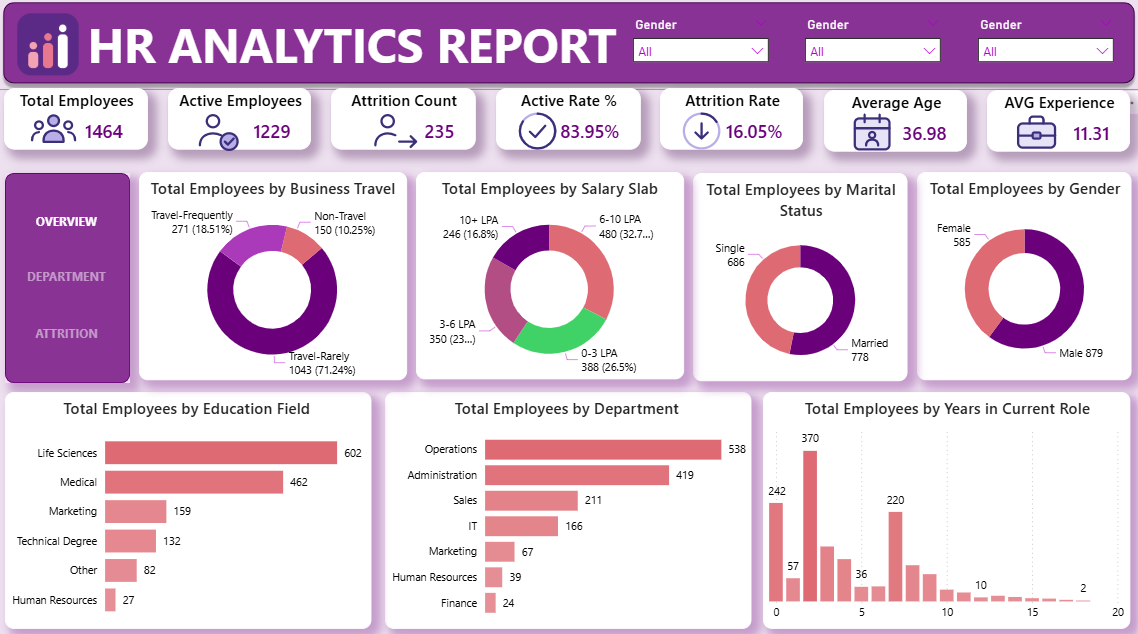

The dashboard page shown, as its layout file describes it:
{"tool":"powerbi","page":{"name":"Overview","canvas":[1280,720],"ordinal":0},"visuals":[{"type":"shape","box":[0,0,1280,104.8],"z":0},{"type":"cardVisual","title":"Total Employees","fields":{"Data":["Measures (2).Total Employee"]},"box":[7.8,102.9,161,69],"z":0,"group":"g1"},{"type":"cardVisual","title":"Active Rate %","fields":{"Data":["Measures (2).Active Rate"]},"box":[558.2,102.9,161.6,69],"z":1000,"group":"g1"},{"type":"group","id":"g1","title":"Group 1","box":[7.8,102.9,1259.9,70.5],"z":2000},{"type":"cardVisual","title":"Attrition Count","fields":{"Data":["Measures (2).Inactive Employee"]},"box":[374.2,102.9,161.6,69],"z":2000,"group":"g1"},{"type":"cardVisual","title":"Active Employees","fields":{"Data":["Measures (2).Active Employee"]},"box":[191.3,102.9,160.4,69],"z":3000,"group":"g1"},{"type":"image","box":[35.3,120.7,54.7,55.8],"z":3000},{"type":"cardVisual","title":"Attrition Rate","fields":{"Data":["Measures (2).Attrition Rate"]},"box":[742.2,102.9,160.4,69],"z":4000,"group":"g1"},{"type":"image","box":[219.8,123,54.7,55.8],"z":4000},{"type":"cardVisual","title":"Average Age","fields":{"Data":["Measures (2).Average Age"]},"box":[925.1,105.2,160.4,69],"z":5000,"group":"g1"},{"type":"image","box":[952.6,123.8,54.3,55.9],"z":5000},{"type":"cardVisual","title":"AVG Experience","fields":{"Data":["Measures (2).Average Experience"]},"box":[1108,105.2,160.4,69],"z":6000,"group":"g1"},{"type":"image","box":[416.8,123,54.7,55.8],"z":6000},{"type":"image","box":[577.4,123,54.7,55.8],"z":7000},{"type":"image","box":[1135.4,123,54.7,55.8],"z":8000},{"type":"donutChart","title":"Total Employees by Gender","fields":{"Category":["HR_Analytics-4.Gender"],"Y":["Measures (2).Total Employees"]},"box":[1029.5,197,240.3,233.5],"z":9000},{"type":"barChart","fields":{"Category":["HR_Analytics-4.Department"],"Y":["Measures (2).Total Employees"]},"box":[434.4,443,410,265],"z":10000},{"type":"donutChart","title":"Total Employees by Marital Status","fields":{"Y":["Measures (2).Total Employees"],"Category":["HR_Analytics-4.MaritalStatus"]},"box":[779.3,198.1,240,233.5],"z":11000},{"type":"shape","box":[8.8,197.5,140,235],"z":12000},{"type":"shape","box":[19.4,220.9,117.3,62.6],"z":13000},{"type":"clusteredBarChart","title":"Total Employees by Education Field","fields":{"Category":["HR_Analytics-4.EducationField"],"Y":["Measures (2).Total Employees"]},"box":[9.1,443,410,265.3],"z":14000},{"type":"shape","box":[19.4,282.4,117.3,62.6],"z":15000},{"type":"shape","box":[19.4,346.2,117.3,62.6],"z":16000},{"type":"donutChart","title":"Total Employees by Business Travel","fields":{"Category":["HR_Analytics-4.BusinessTravel"],"Y":["Measures (2).Total Employees"]},"box":[158.9,197,300,233.5],"z":17000},{"type":"donutChart","title":"Total Employees by Salary Slab","fields":{"Y":["Measures (2).Total Employees"],"Category":["HR_Analytics-4.SalarySlab"]},"box":[469.1,197,300,232.3],"z":21000},{"type":"image","box":[760.7,123,54.7,55.8],"z":22000},{"type":"clusteredColumnChart","title":"Total Employees by Years in Current Role","fields":{"Y":["Measures (2).Total Employees"],"Category":["HR_Analytics-4.YearsinCurrentRole"]},"box":[857.5,443,411.1,265.3],"z":23000},{"type":"shape","box":[78.6,0,637.7,104.8],"z":23001},{"type":"slicer","fields":{"Values":["HR_Analytics-4.Gender"]},"box":[701.5,19.4,172,69.5],"z":23002},{"type":"image","box":[0,5.7,113.9,96.8],"z":23003},{"type":"slicer","fields":{"Values":["HR_Analytics-4.Gender"]},"box":[894.5,19.4,172,69.5],"z":23004},{"type":"slicer","fields":{"Values":["HR_Analytics-4.Gender"]},"box":[1087.5,19.4,172,69.5],"z":23005}]}

Visuals, with their boxes in screenshot pixels (x1, y1, x2, y2), scaled from the page's 1280x720 canvas onto the 1138x634 screenshot:
shape: pyautogui.locateOnScreen(0, 0, 1137, 92)
"Total Employees" cardVisual: pyautogui.locateOnScreen(7, 91, 150, 151)
"Active Rate %" cardVisual: pyautogui.locateOnScreen(496, 91, 640, 151)
"Group 1" group: pyautogui.locateOnScreen(7, 91, 1127, 153)
"Attrition Count" cardVisual: pyautogui.locateOnScreen(333, 91, 476, 151)
"Active Employees" cardVisual: pyautogui.locateOnScreen(170, 91, 313, 151)
image: pyautogui.locateOnScreen(31, 106, 80, 155)
"Attrition Rate" cardVisual: pyautogui.locateOnScreen(660, 91, 802, 151)
image: pyautogui.locateOnScreen(195, 108, 244, 157)
"Average Age" cardVisual: pyautogui.locateOnScreen(822, 93, 965, 153)
image: pyautogui.locateOnScreen(847, 109, 895, 158)
"AVG Experience" cardVisual: pyautogui.locateOnScreen(985, 93, 1128, 153)
image: pyautogui.locateOnScreen(371, 108, 419, 157)
image: pyautogui.locateOnScreen(513, 108, 562, 157)
image: pyautogui.locateOnScreen(1009, 108, 1058, 157)
"Total Employees by Gender" donutChart: pyautogui.locateOnScreen(915, 173, 1129, 379)
barChart - HR_Analytics-4.Department x Measures (2).Total Employees: pyautogui.locateOnScreen(386, 390, 751, 623)
"Total Employees by Marital Status" donutChart: pyautogui.locateOnScreen(693, 174, 906, 380)
shape: pyautogui.locateOnScreen(8, 174, 132, 381)
shape: pyautogui.locateOnScreen(17, 195, 122, 250)
"Total Employees by Education Field" clusteredBarChart: pyautogui.locateOnScreen(8, 390, 373, 624)
shape: pyautogui.locateOnScreen(17, 249, 122, 304)
shape: pyautogui.locateOnScreen(17, 305, 122, 360)
"Total Employees by Business Travel" donutChart: pyautogui.locateOnScreen(141, 173, 408, 379)
"Total Employees by Salary Slab" donutChart: pyautogui.locateOnScreen(417, 173, 684, 378)
image: pyautogui.locateOnScreen(676, 108, 725, 157)
"Total Employees by Years in Current Role" clusteredColumnChart: pyautogui.locateOnScreen(762, 390, 1128, 624)
shape: pyautogui.locateOnScreen(70, 0, 637, 92)
slicer - HR_Analytics-4.Gender: pyautogui.locateOnScreen(624, 17, 777, 78)
image: pyautogui.locateOnScreen(0, 5, 101, 90)
slicer - HR_Analytics-4.Gender: pyautogui.locateOnScreen(795, 17, 948, 78)
slicer - HR_Analytics-4.Gender: pyautogui.locateOnScreen(967, 17, 1120, 78)
